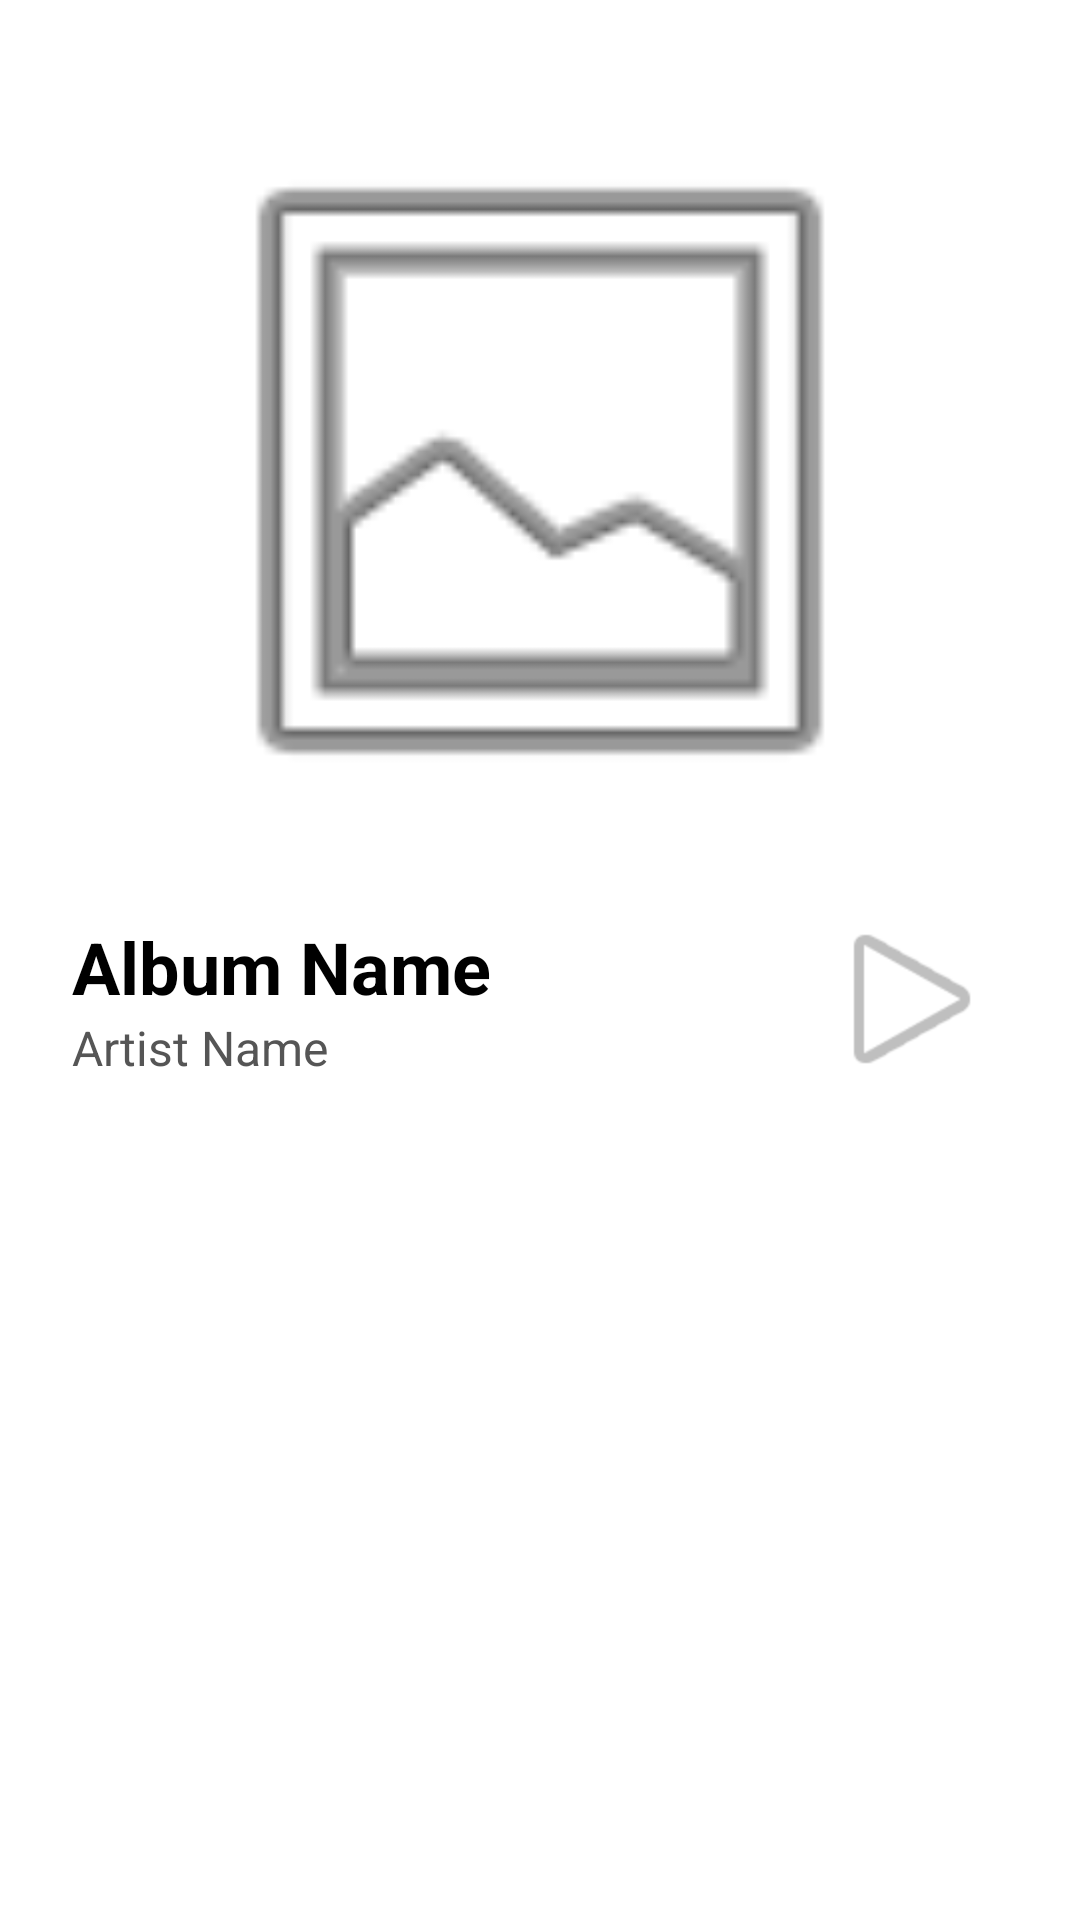

Icons on this 1080 × 1920 Android screen, each with the point to tap as point (x, y):
play: point (912, 999)
